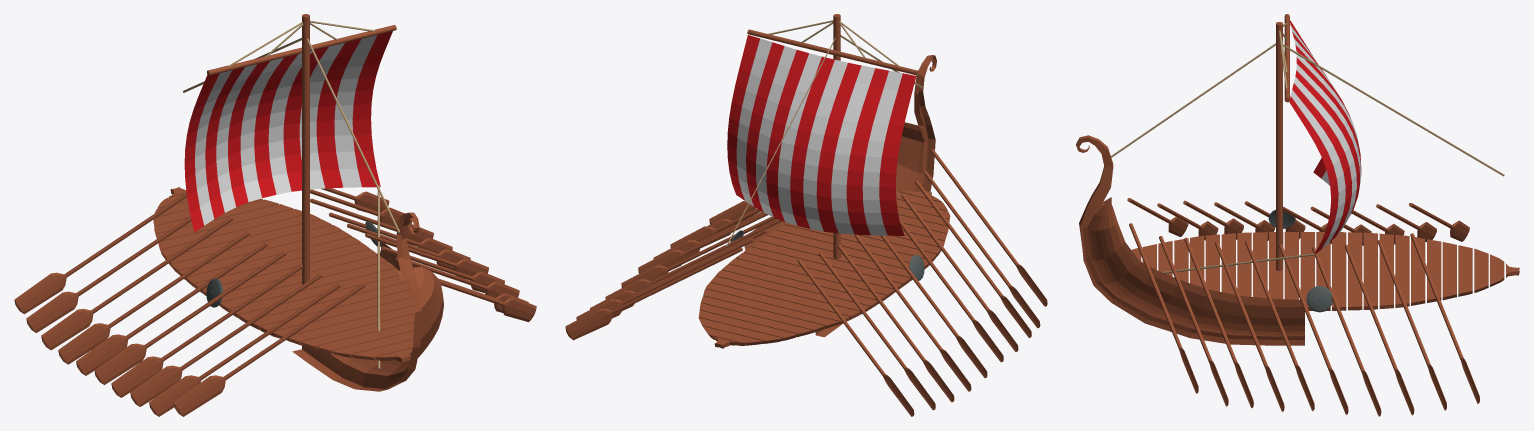
Rendered from viking.glb.
3 renders of one model, left to right at view 1: azimuth 30°, elevation 25°; view 2: azimuth 150°, elevation 25°; view 3: azimuth 270°, elevation 25°, orthographic. The views are drawn at different scales.
Parts seen in each view (by area): view 1: Plane.001, Cube, Plane, Mast, Paddle.015, Paddle.012, Paddle.019, Paddle.013, Paddle.017, Paddle.016, Paddle.014, Paddle.010 (+13 smaller); view 2: Plane.001, Cube, Plane, Paddle, MastBeam, Paddle.013, Paddle.012, Paddle.010, Paddle.018, Paddle.019, Paddle.001, Paddle.011 (+12 smaller); view 3: Cube, Plane, Plane.001, Mast, Paddle.006, Paddle.008, Paddle.009, Paddle.007, Paddle, Paddle.005, Paddle.002, Paddle.001 (+12 smaller).
Part boxes in pixels (x1,y1,x2,y2): Plane.001: (184, 31, 392, 232); Cube: (153, 187, 415, 362); Plane: (292, 212, 443, 391); Mast: (302, 14, 309, 284); Paddle.015: (94, 251, 286, 384); Paddle.012: (41, 216, 233, 350); Paddle.019: (173, 283, 365, 416); Paddle.013: (58, 231, 250, 364); Paddle.017: (130, 273, 322, 406); Paddle.016: (111, 264, 303, 397); Paddle.014: (76, 242, 267, 375); Paddle.010: (14, 192, 186, 314); Plane.001: (727, 35, 916, 235); Cube: (698, 191, 950, 348); Plane: (744, 55, 936, 337); Paddle: (565, 247, 742, 340); MastBeam: (747, 29, 918, 75); Paddle.013: (854, 234, 971, 391); Paddle.012: (837, 244, 954, 402); Paddle.010: (797, 259, 914, 416); Paddle.018: (923, 170, 1040, 328); Paddle.019: (930, 149, 1047, 306); Paddle.001: (576, 238, 753, 319); Paddle.011: (819, 252, 935, 410); Cube: (1131, 232, 1519, 310); Plane: (1076, 135, 1304, 345); Plane.001: (1289, 20, 1361, 255); Mast: (1276, 22, 1282, 270); Paddle.006: (1215, 241, 1284, 411); Paddle.008: (1159, 236, 1228, 406); Paddle.009: (1129, 223, 1198, 393); Paddle.007: (1184, 237, 1253, 407); Paddle: (1410, 233, 1479, 403); Paddle.005: (1245, 240, 1314, 410); Paddle.002: (1344, 244, 1414, 415); Paddle.001: (1377, 240, 1446, 410).
Bounding box in the file's own units: 10.12 × 8.39 × 10.61.
